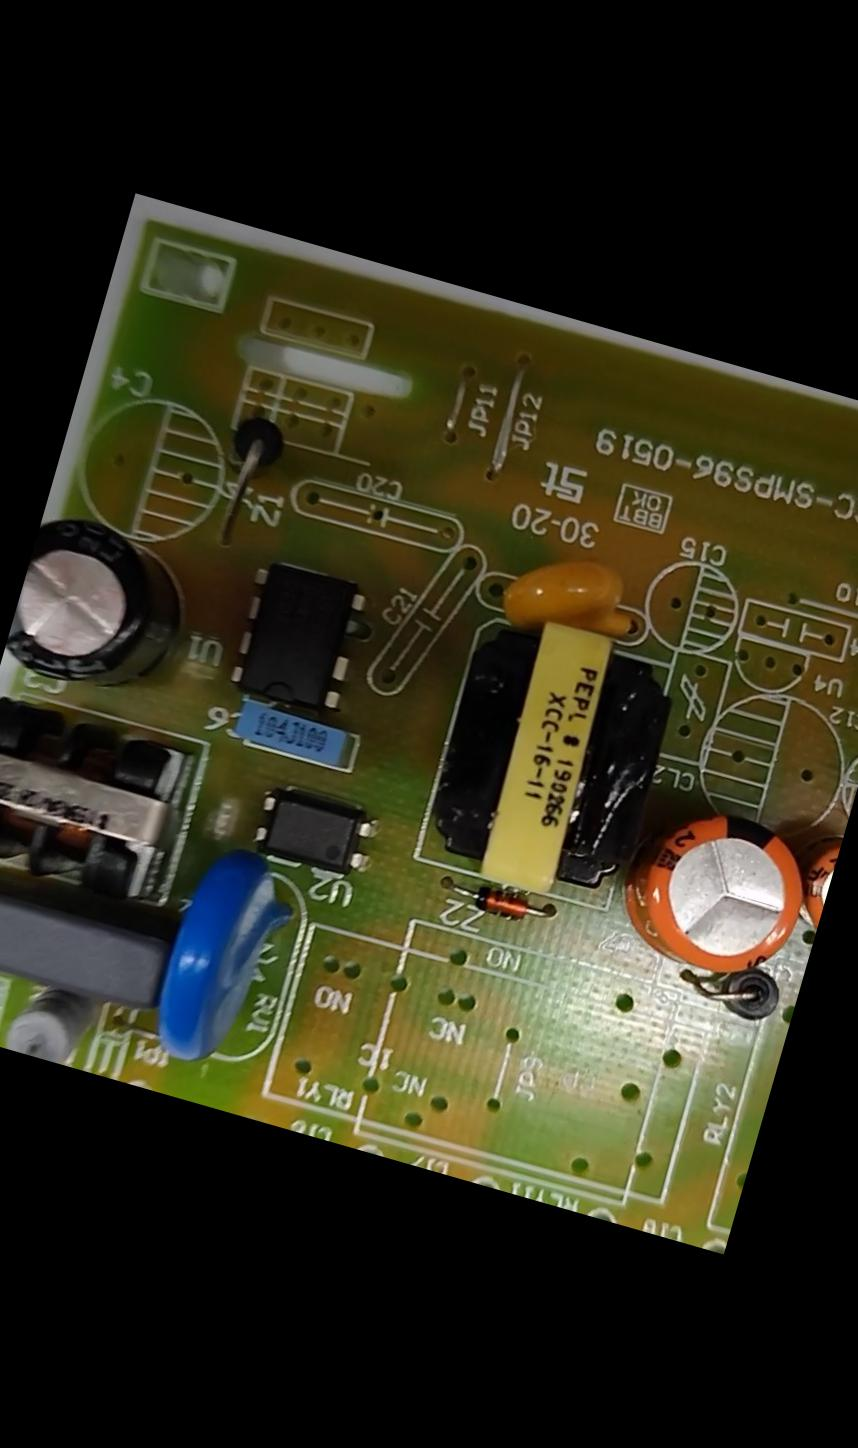Cap1: (608, 792, 822, 993)
Cap2: (791, 830, 842, 937)
Cap3: (0, 517, 202, 709)
MOSFET: (217, 554, 370, 723)
Mov: (137, 852, 301, 1082)
Resistor: (0, 975, 104, 1071)
Transformer: (418, 614, 685, 921), (0, 695, 191, 910)
